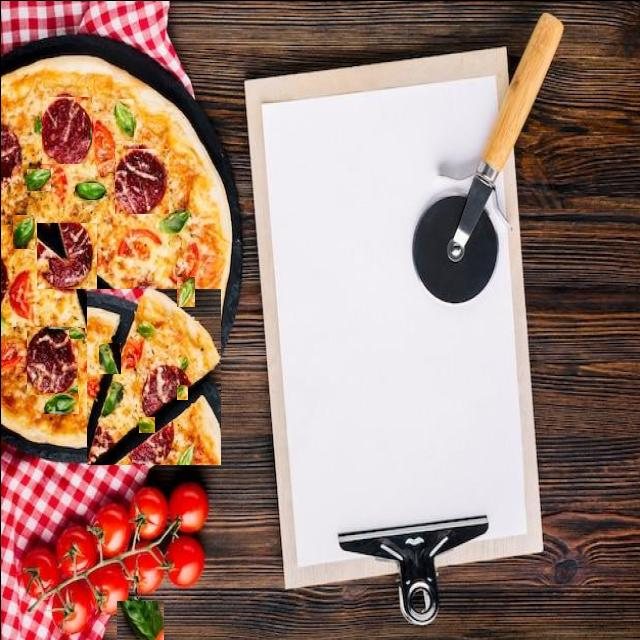basil: (116, 600, 163, 640), (159, 209, 190, 234), (115, 98, 133, 140), (42, 392, 78, 413), (12, 214, 34, 248), (98, 340, 120, 372), (176, 276, 194, 306), (26, 168, 50, 190), (74, 182, 104, 199), (138, 416, 154, 432), (32, 115, 42, 133), (68, 327, 84, 338), (176, 384, 187, 399)
pepperoni: (36, 222, 96, 288), (114, 146, 168, 212), (26, 326, 77, 394), (41, 96, 91, 163), (128, 279, 174, 334), (140, 340, 189, 390), (0, 127, 19, 177)
pizza: (0, 54, 232, 450), (86, 288, 220, 464)
